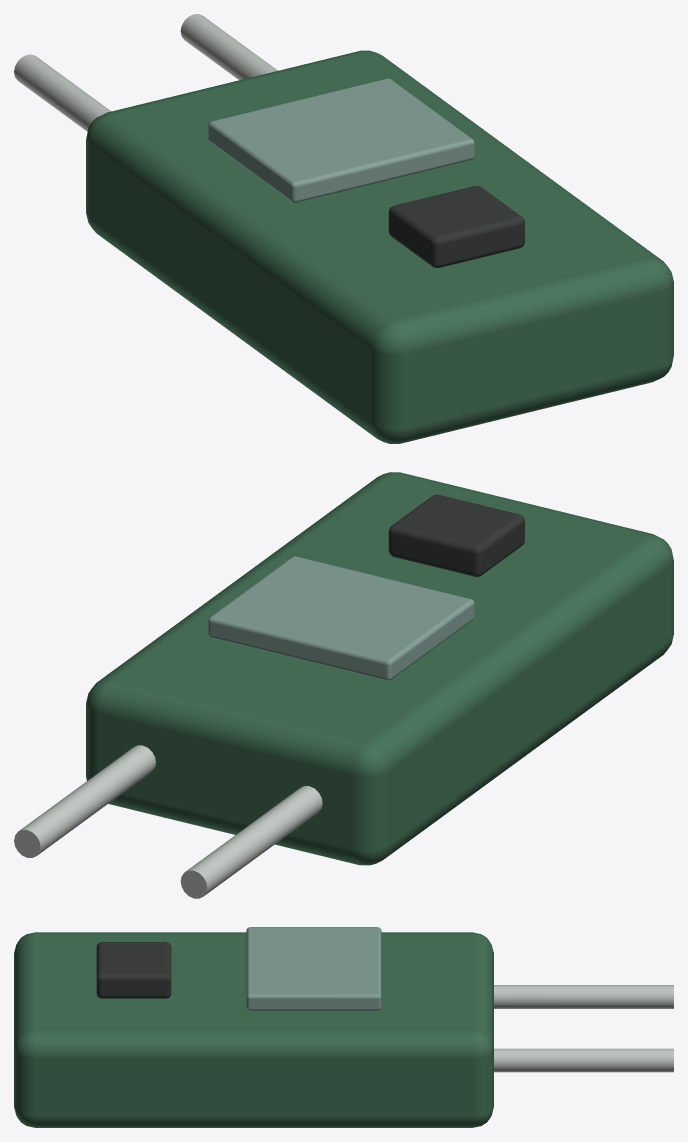
File: sawmill-and-timber-yard-timber-moisture-meter-c2581656__31194.glb
The picture shows the model from 3 angles, top to bottom: view 1: azimuth 30°, elevation 25°; view 2: azimuth 150°, elevation 25°; view 3: azimuth 270°, elevation 25°; orthographic projection. The views are drawn at different scales.
Parts seen in each view (by area): view 1: timber-moisture-meter; view 2: timber-moisture-meter; view 3: timber-moisture-meter.
Part boxes in pixels (<box>): timber-moisture-meter: <box>14,14,673,443</box>; timber-moisture-meter: <box>14,472,673,898</box>; timber-moisture-meter: <box>14,927,673,1127</box>.
Bounding box in the file's own units: 0.09 × 0.044 × 0.22.
